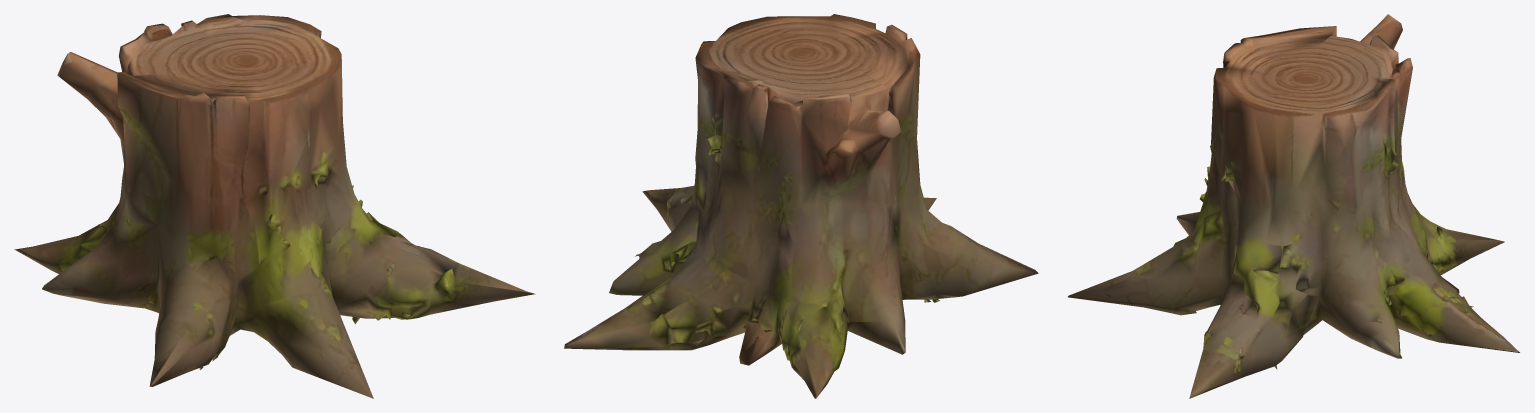
Rendered from tree_stump.glb.
3 renders of one model, left to right at view 1: azimuth 30°, elevation 25°; view 2: azimuth 150°, elevation 25°; view 3: azimuth 270°, elevation 25°, orthographic. The views are drawn at different scales.
Parts seen in each view (by area): view 1: tripo_node_4e7ab43d-47bc-4b56-92fd-ea1f0203e296; view 2: tripo_node_4e7ab43d-47bc-4b56-92fd-ea1f0203e296; view 3: tripo_node_4e7ab43d-47bc-4b56-92fd-ea1f0203e296.
Part boxes in pixels (box(x1,y1,x2,y2)): tripo_node_4e7ab43d-47bc-4b56-92fd-ea1f0203e296: box(14, 14, 535, 398); tripo_node_4e7ab43d-47bc-4b56-92fd-ea1f0203e296: box(564, 14, 1038, 398); tripo_node_4e7ab43d-47bc-4b56-92fd-ea1f0203e296: box(1068, 14, 1519, 398).
Size of the model in its own units: 0.8607 by 0.578 by 0.9442.
Materials: 1 (1 with a texture image).
